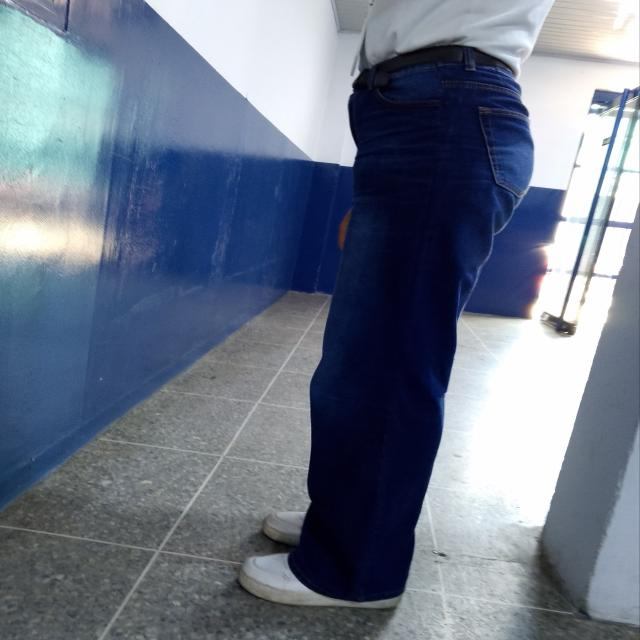pantalon_oscuro: (286, 62, 533, 602)
